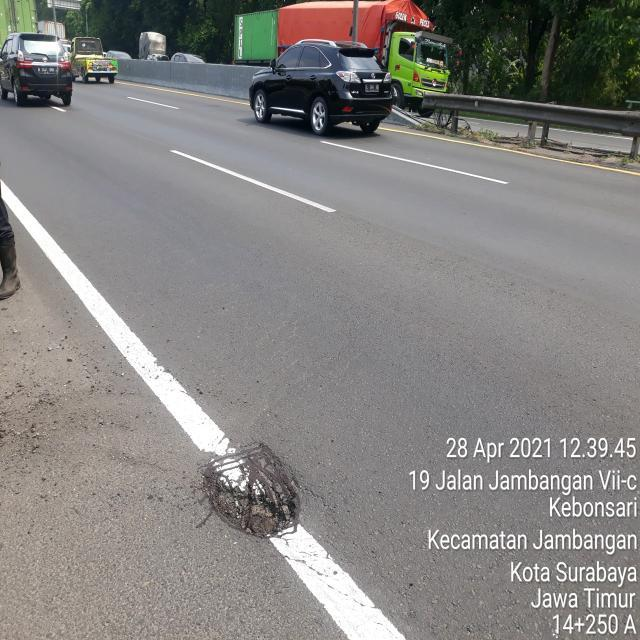Buraco: (195, 470, 305, 541)
